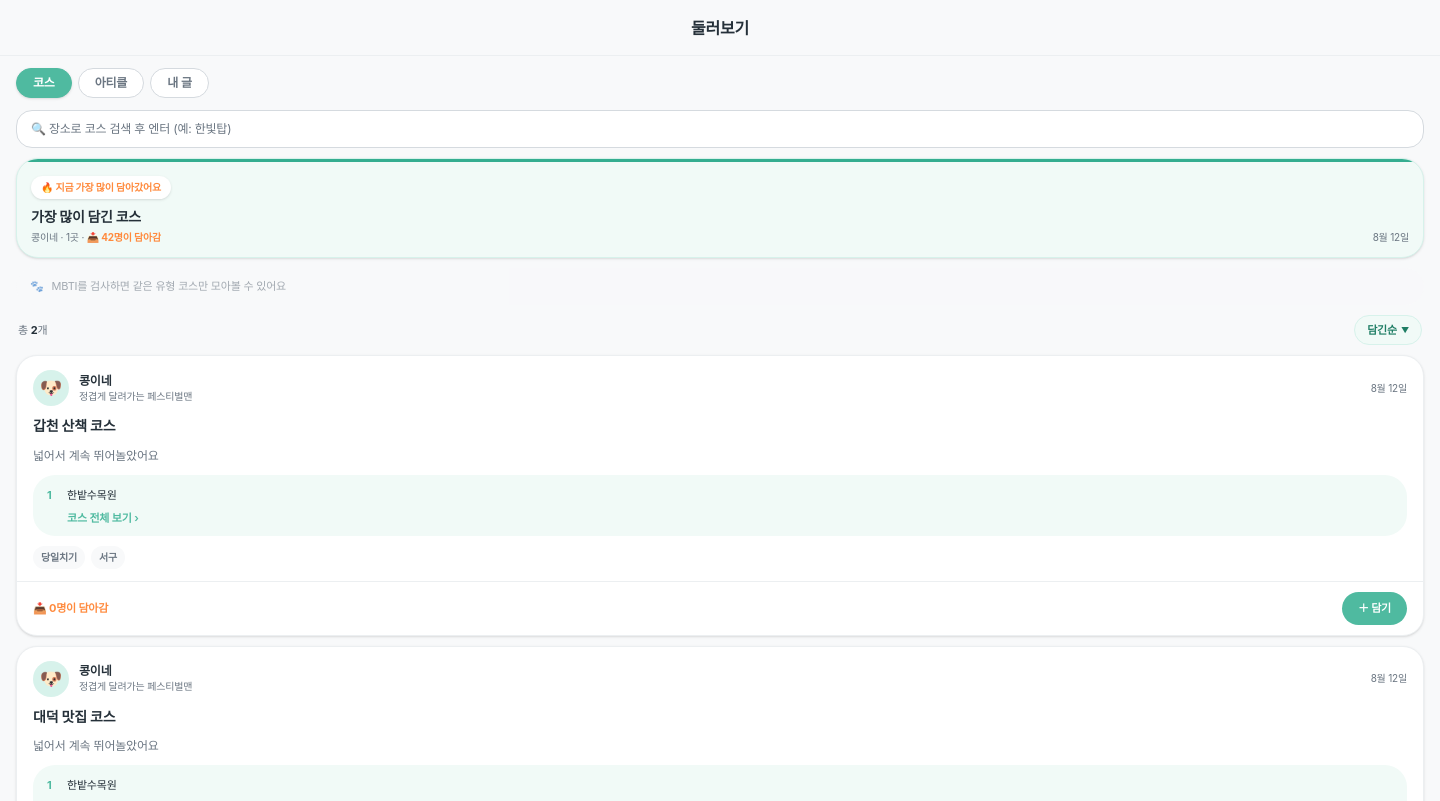
Test: 둘러보기 — 코스 탭 › 엔터로 검색하면 검색어를 서버로 넘기고 배너·유형 필터를 감춘다
The width and height of the screenshot is (1440, 801).
In the search field labelled "장소로 코스 검색": (720, 129) [16,110,1424,148], type "  한빛탑 "
Then press Enter
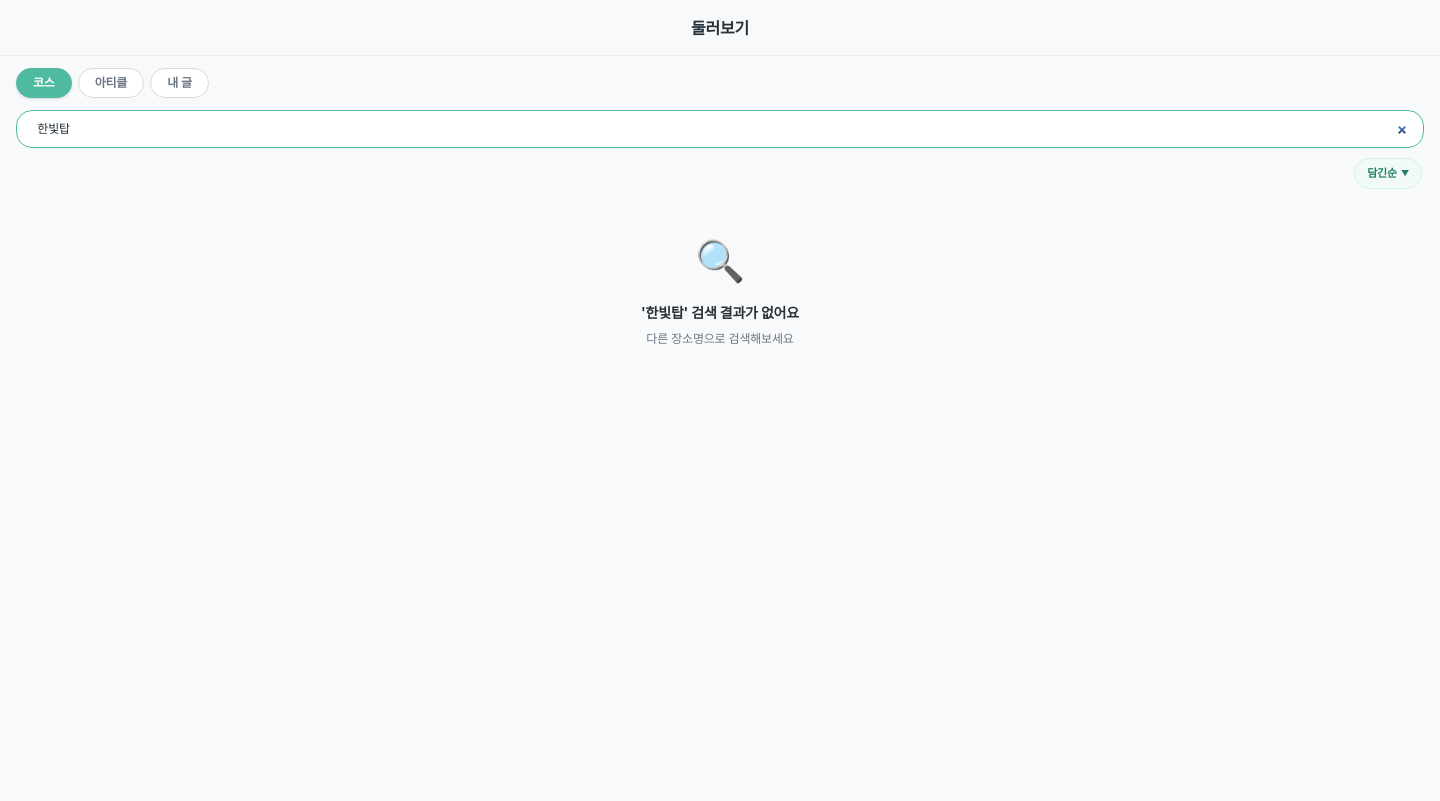
Expected: the link "🔥 지금 가장 많이 담아갔어요" is gone
Expected: the button "같은 유형 코스만" is gone
Expected: the text "'한빛탑' 검색 결과가 없어요" is shown, [641,304,799,320]
